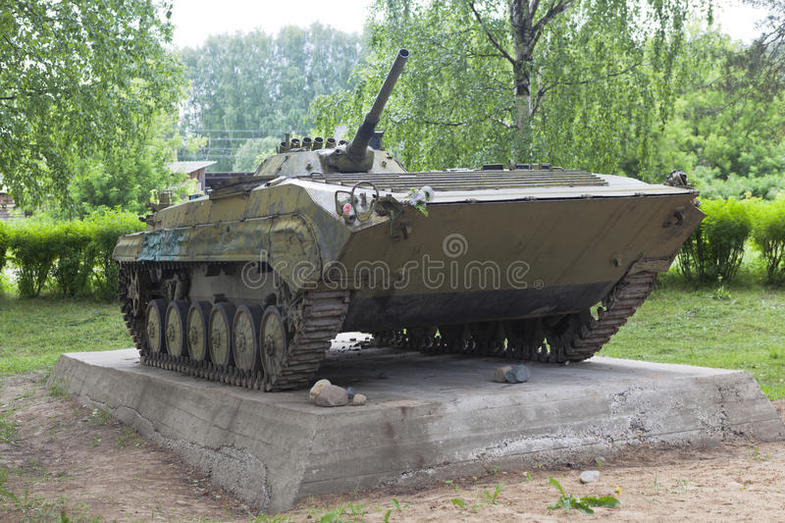bmp: (130, 53, 700, 374)
